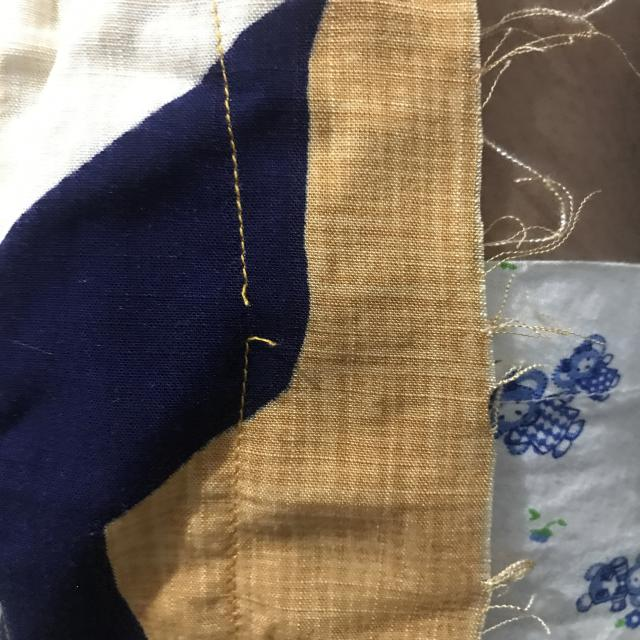broken: (231, 269, 284, 364)
good: (218, 110, 261, 244)
